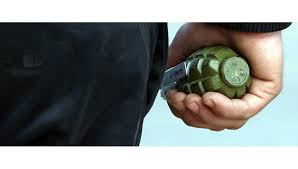e1: (159, 46, 252, 98)
